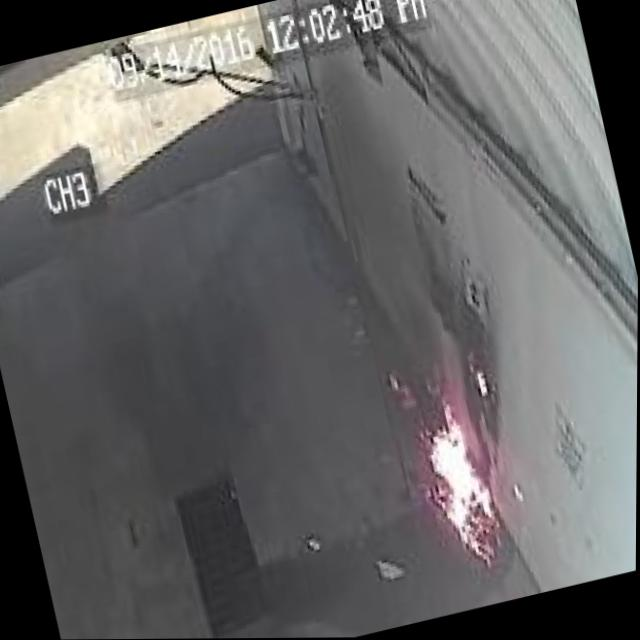fire: (383, 349, 544, 587)
